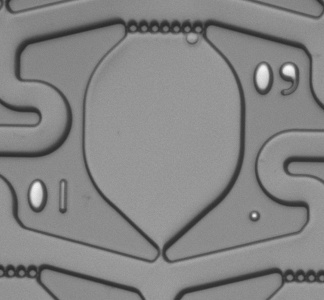AptNum: (248, 53, 304, 103)
Marker: (243, 206, 266, 228)
StNum: (25, 172, 76, 220)
Trap: (137, 250, 186, 293)
